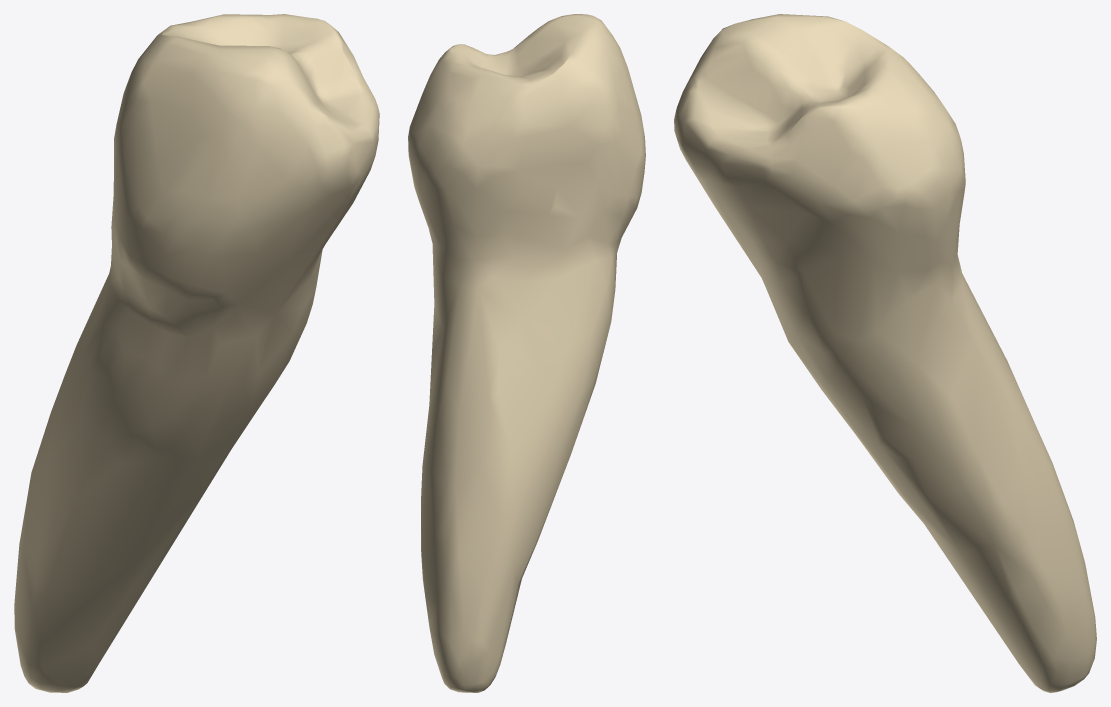
File: tooth-45.glb
The picture shows the model from 3 angles, left to right: view 1: azimuth 30°, elevation 25°; view 2: azimuth 150°, elevation 25°; view 3: azimuth 270°, elevation 25°; orthographic projection. The views are drawn at different scales.
Parts seen in each view (by area): view 1: tooth-45; view 2: tooth-45; view 3: tooth-45.
Part boxes in pixels (x1=…): tooth-45: x1=14, y1=14, x2=379, y2=692; tooth-45: x1=408, y1=14, x2=645, y2=692; tooth-45: x1=674, y1=14, x2=1096, y2=692.
Bounding box in the file's own units: 0.2029 × 0.584 × 0.3331.
